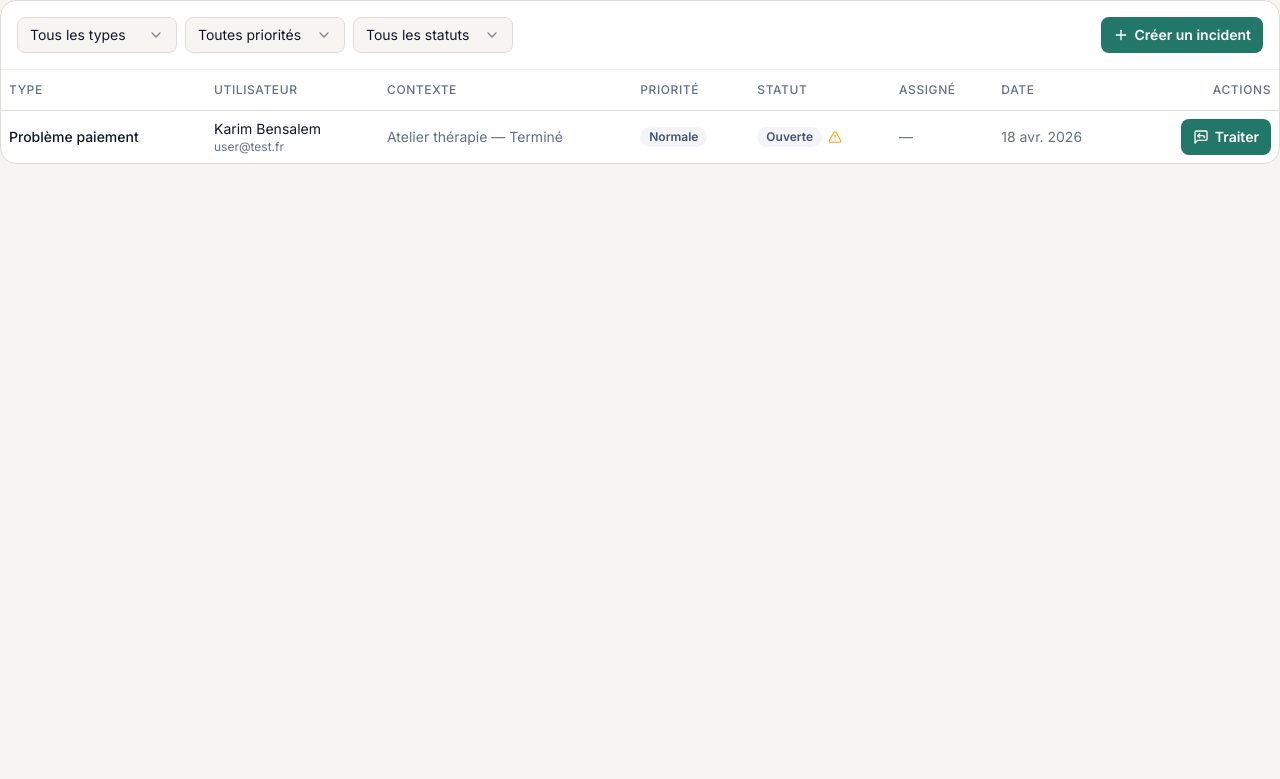
Scenario: FinanceIncidentsTable › affiche le paymentStatus dans le détail sheet pour un booking PAID
Click the button "Traiter".
click(1226, 136)  # box [1181,118,1271,154]
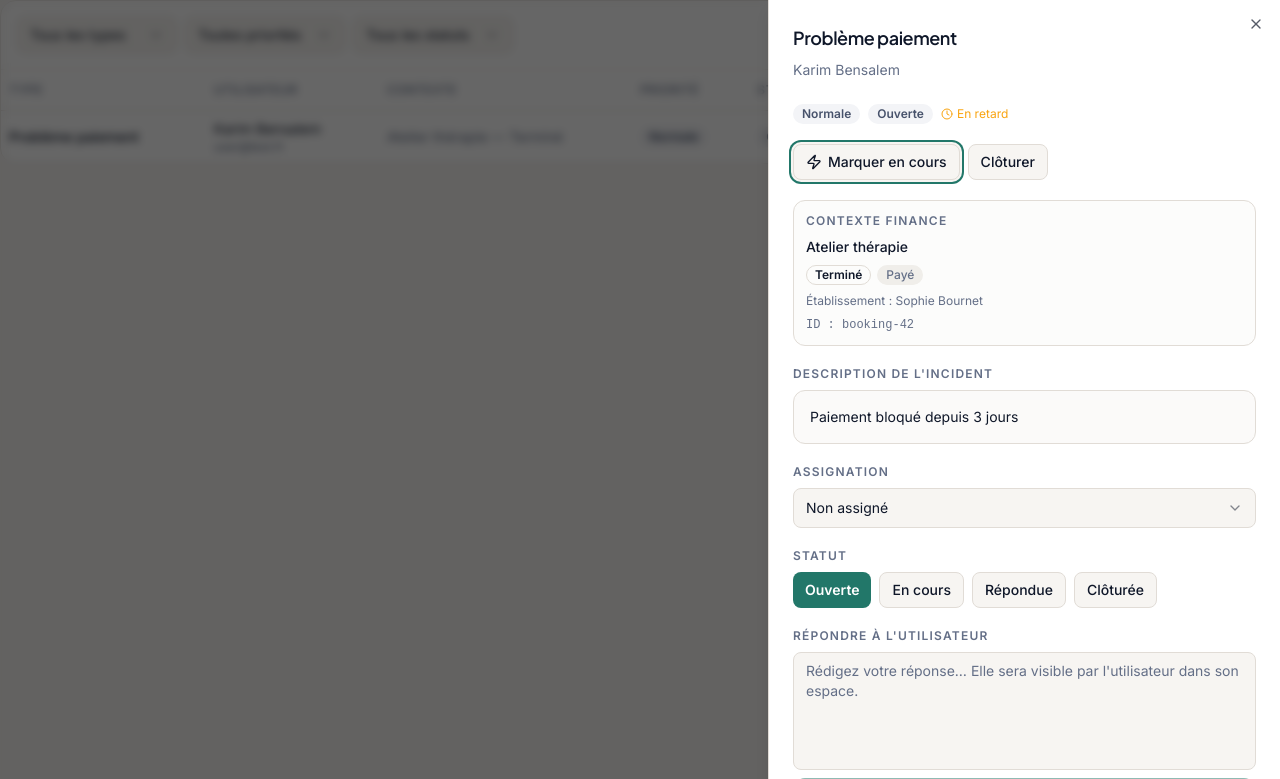
Expected: the text "Payé" is shown, [877,265,923,285]
Expected: the text "Établissement : Sophie Bournet" is shown, [806,293,983,308]
